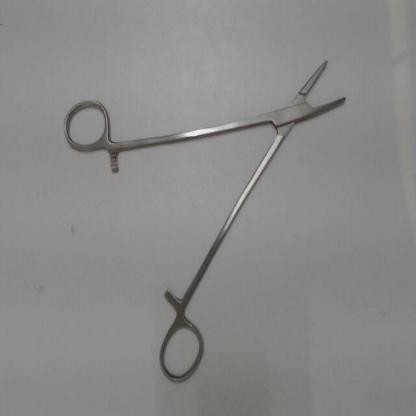8 Mayo Needle Holder: (58, 46, 367, 392)
